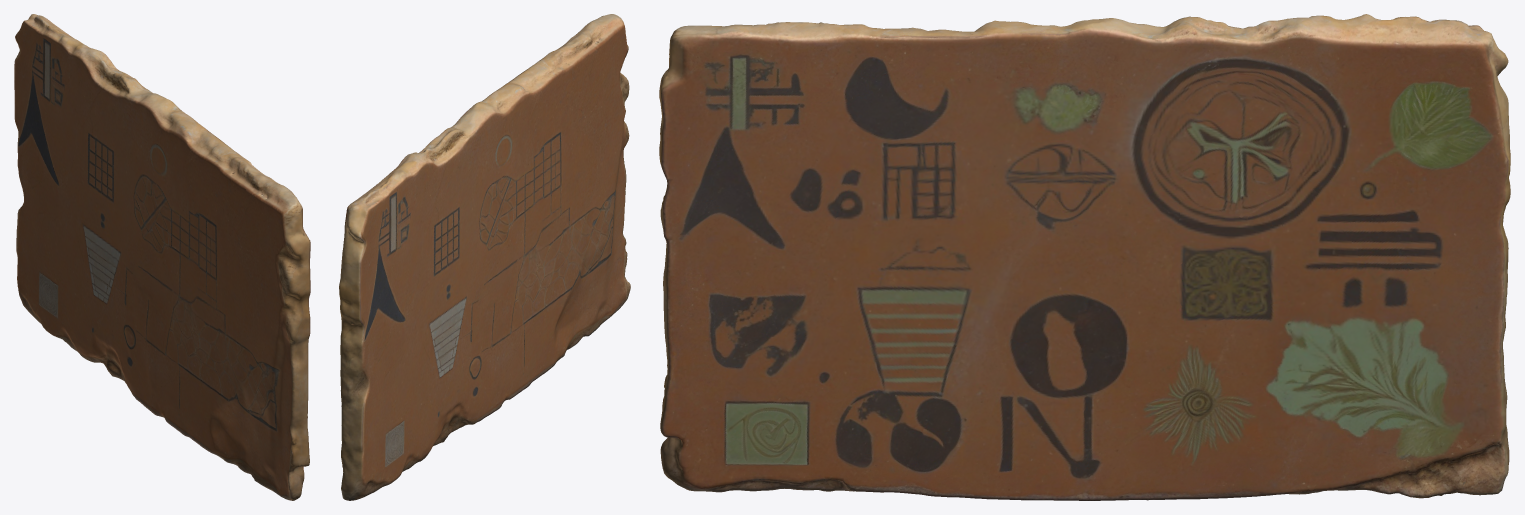
Rendered from Meshy_AI_a_stone_tile_at_a_goo_1115233242_texture.glb.
3 renders of one model, left to right at view 1: azimuth 30°, elevation 25°; view 2: azimuth 150°, elevation 25°; view 3: azimuth 270°, elevation 25°, orthographic. The views are drawn at different scales.
Bounding box in the file's own units: 0.0972 × 1.24 × 2.
Materials: 1 (1 with a texture image).
